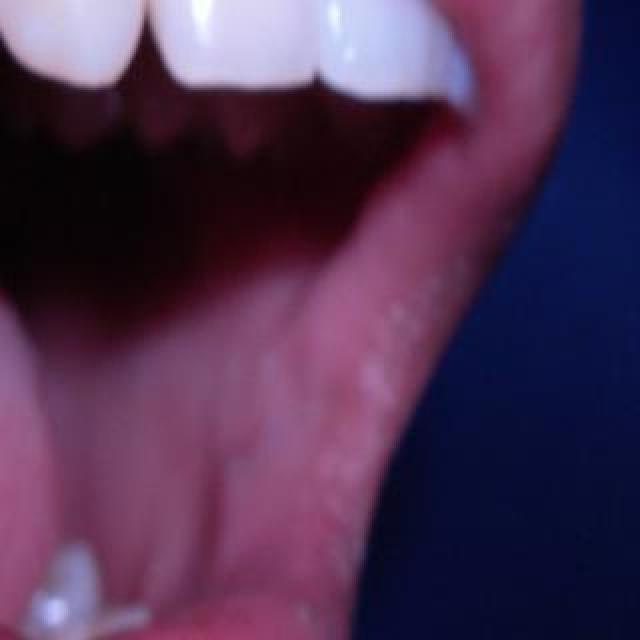spacing: (0, 0, 24, 106)
